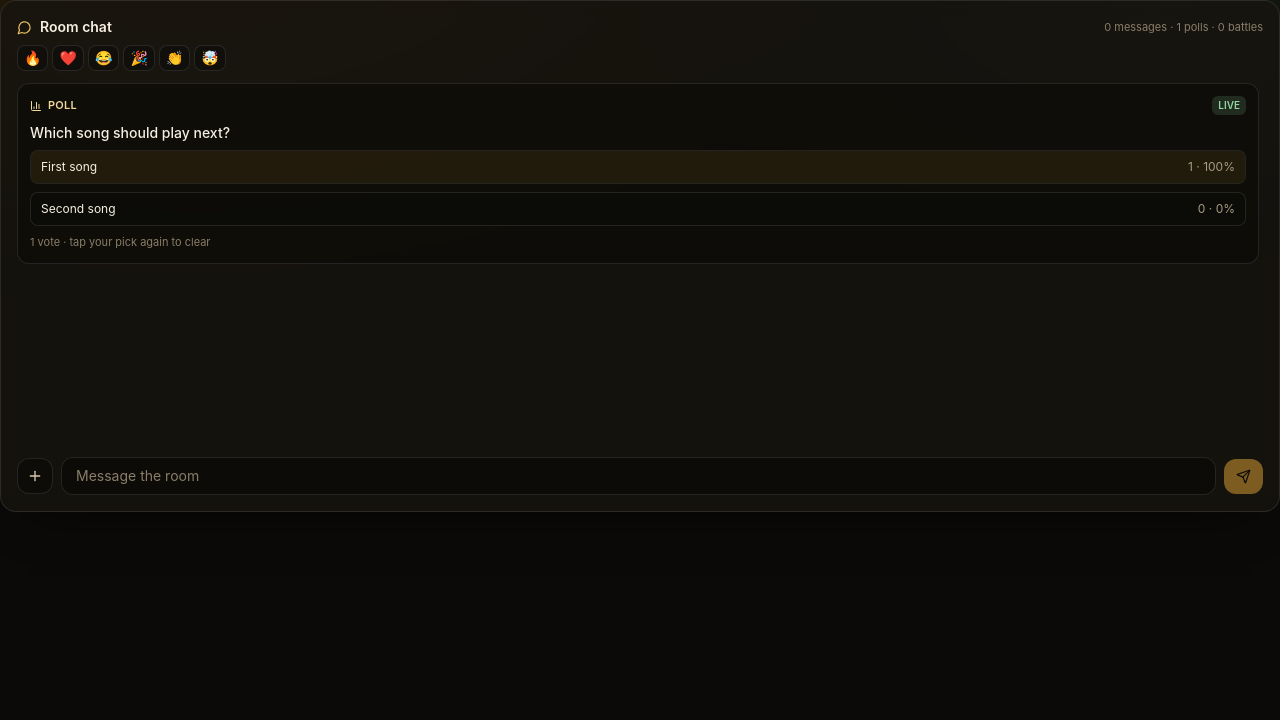
Test: ChatPanel › can start another poll while one is already live
Step 1. Click the button named "Start a poll or battle" → click(35, 476), box left=17, top=458, right=53, bottom=494
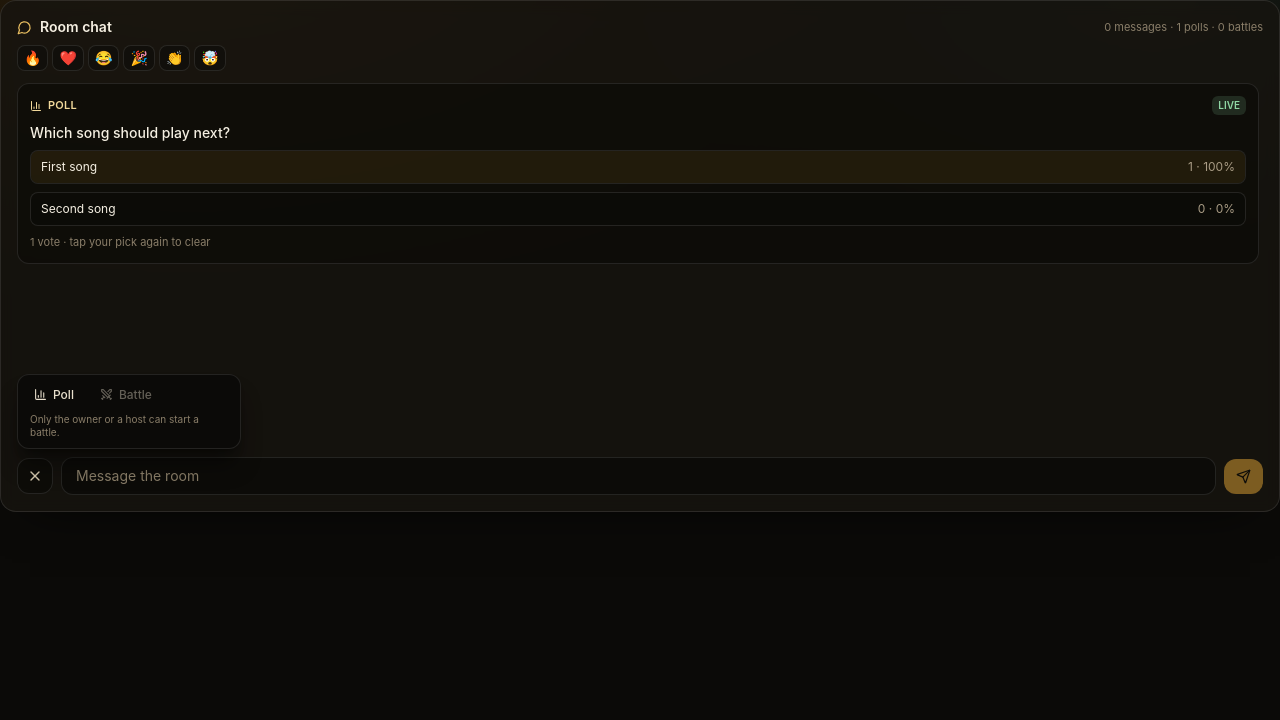
Expected: the button "Poll" is enabled, left=24, top=380, right=84, bottom=408
